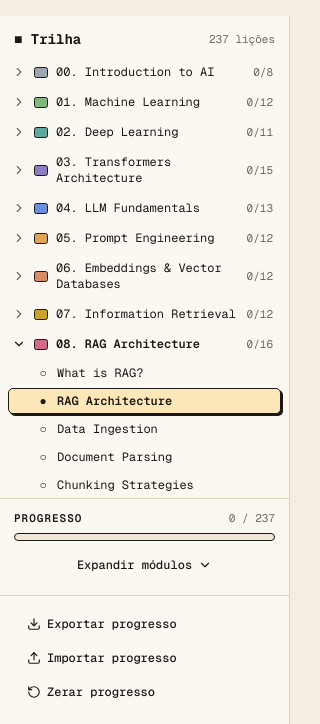
CourseSidebar › expande todos os módulos e depois recolhe todos
Click the button "Expandir módulos". click: (144,565)
box: [14,549,275,581]
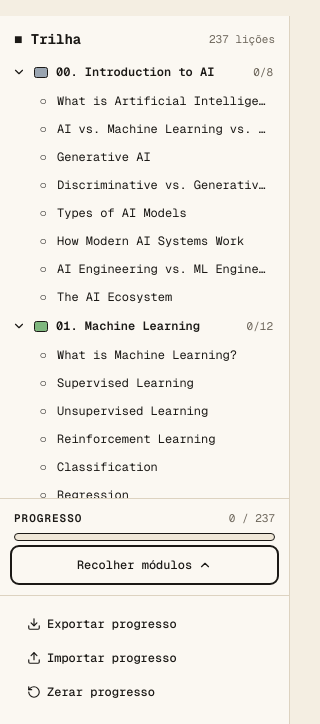
Check: the button "○ Generative AI" is shown, box [8,144,281,170]
Click the button "Recolher módulos". click: (144,565)
box: [14,549,275,581]
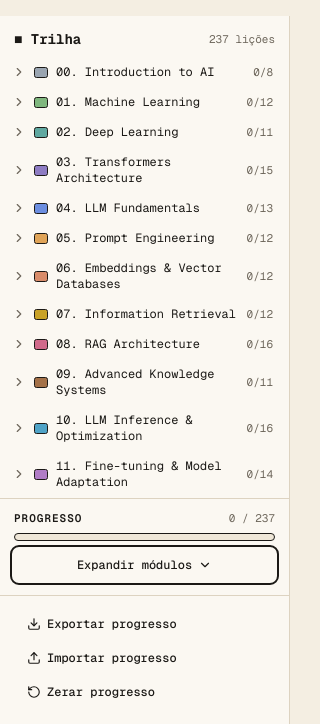
Check: the button "Generative AI" is gone
